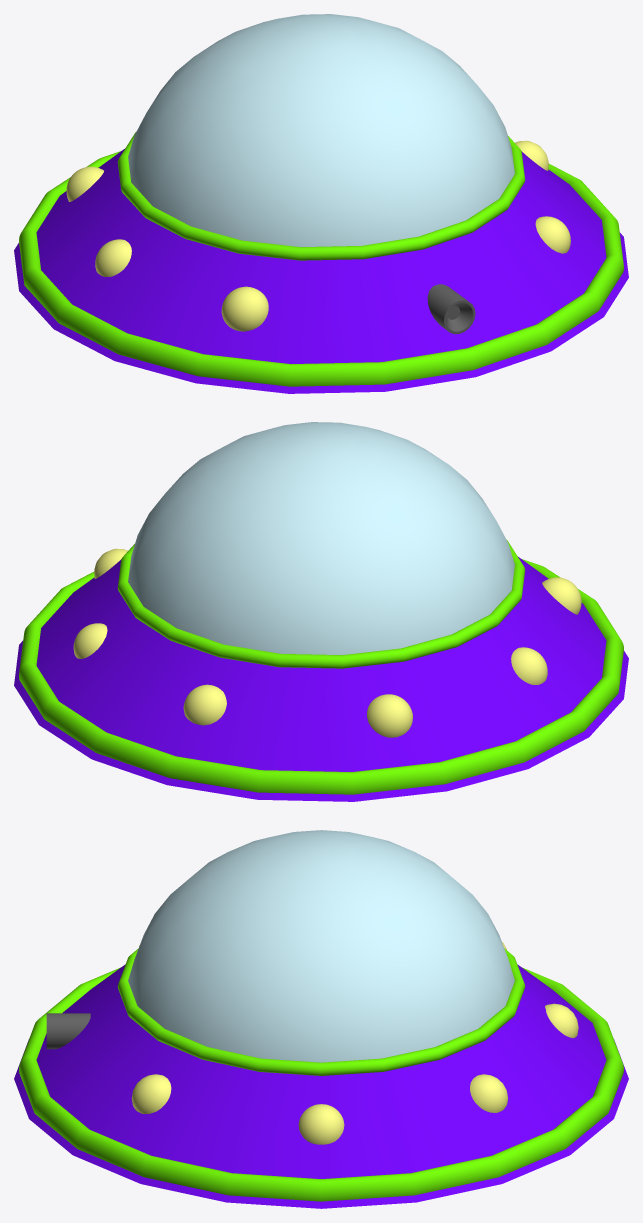
File: ovni.fbx
3 renders of one model, top to bottom at view 1: azimuth 30°, elevation 25°; view 2: azimuth 150°, elevation 25°; view 3: azimuth 270°, elevation 25°, orthographic.
Parts seen in each view (by area): view 1: pSphere1, pCylinder1, pTorus2, pTorus1, pSphere7, pCylinder2, pSphere3, pSphere6, pSphere4; view 2: pSphere1, pCylinder1, pTorus2, pTorus1, pSphere4, pSphere8, pSphere3, pSphere7, pSphere5; view 3: pSphere1, pCylinder1, pTorus2, pTorus1, pSphere2, pCylinder2, pSphere6, pSphere5, pSphere8.
Part boxes in pixels (x1,y1,x2,y2): pSphere1: (128,14,514,247); pCylinder1: (14,149,628,393); pTorus2: (19,151,623,386); pTorus1: (117,132,525,260); pSphere7: (221,286,268,331); pCylinder2: (427,284,475,334); pSphere3: (95,239,131,276); pSphere6: (535,216,570,253); pSphere4: (66,166,103,201); pSphere1: (128,422,514,655); pCylinder1: (14,557,628,801); pTorus2: (19,559,623,794); pTorus1: (117,540,525,668); pSphere4: (367,694,412,737); pSphere8: (183,684,226,725); pSphere3: (511,647,547,684); pSphere7: (542,577,581,614); pSphere5: (73,623,107,658); pSphere1: (128,830,514,1062); pCylinder1: (14,964,628,1208); pTorus2: (19,967,623,1201); pTorus1: (117,948,525,1075); pSphere2: (298,1104,344,1144); pCylinder2: (46,1013,90,1049); pSphere6: (131,1074,171,1113); pSphere5: (470,1074,508,1112); pSphere8: (545,1003,578,1037).
Size of the model in its own units: 9.08 by 3.77 by 9.08.
